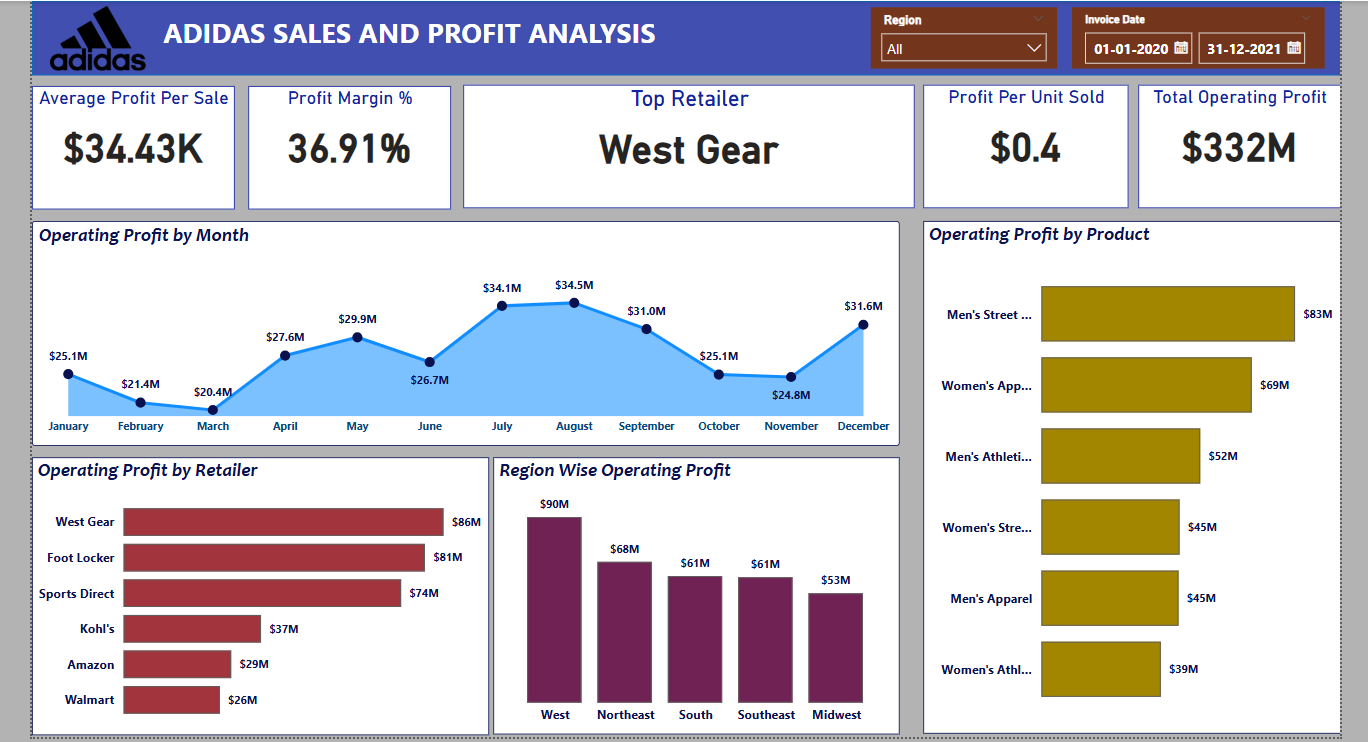

This screenshot's page, from the dashboard's own definition file:
{"tool":"powerbi","page":{"name":"Profit","canvas":[1280,720],"ordinal":1},"visuals":[{"type":"shape","box":[0,0,1280.3,72.7],"z":0,"group":"g1"},{"type":"barChart","title":"Operating Profit by Product","fields":{"Y":["Sum(Table1.Operating Profit)"],"Category":["Table1.Product"]},"box":[871.9,215.2,408.4,501.4],"z":0},{"type":"group","id":"g1","title":"Group 2","box":[0,0,1280.3,72.1],"z":4,"group":"g2"},{"type":"textbox","box":[123.5,6.9,533.8,60.4],"z":1000,"group":"g1"},{"type":"barChart","title":"Operating Profit by Retailer","fields":{"Y":["Sum(Table1.Operating Profit)"],"Category":["Table1.Retailer"]},"box":[0,446.3,447,272],"z":1000},{"type":"image","box":[0,0,129,72.7],"z":2000,"group":"g1"},{"type":"card","title":"Top Retailer","fields":{"Values":["Table1.Top 5 Retailers"]},"box":[421.9,81.9,441.4,121.1],"z":2000},{"type":"areaChart","title":"Operating Profit by Month","fields":{"Category":["Table1.Invoice Date.Variation.Date Hierarchy.Month"],"Y":["Sum(Table1.Operating Profit)"]},"box":[0,215.2,849,220],"z":3000},{"type":"card","title":"Total Operating Profit","fields":{"Values":["Sum(Table1.Operating Profit)"]},"box":[1082.2,81.9,198.1,121.1],"z":4000},{"type":"group","id":"g2","title":"Group 1","box":[0,0,1280.3,72.1],"z":5000},{"type":"card","title":"Profit Per Unit Sold","fields":{"Values":["Table1.Profit per Unit Sold"]},"box":[871.9,81.9,200.5,121.1],"z":6000},{"type":"card","title":"Average Profit Per Sale","fields":{"Values":["Table1.Average Profit per Sale"]},"box":[0,83.2,198,121],"z":7000},{"type":"columnChart","title":"Region Wise Operating Profit","fields":{"Category":["Table1.Region"],"Y":["Sum(Table1.Operating Profit)"]},"box":[451.2,446.3,397.4,271.5],"z":8000},{"type":"card","title":"Profit Margin %","fields":{"Values":["Table1.Profit Margin %"]},"box":[211.6,83.2,198.1,121.1],"z":9000},{"type":"slicer","fields":{"Values":["Table1.Region"]},"box":[820.5,6.1,182.2,59.9],"z":10000},{"type":"slicer","fields":{"Values":["Table1.Invoice Date"]},"box":[1017.4,6.1,247,59.9],"z":11000},{"type":"actionButton","box":[0,0,42.8,28.1],"z":12000}]}

Visuals, with their boxes on the page's 1280x720 design canvas (x1, y1, x2, y2). These are canvas units, not pixel positions in the 1368x742 screenshot, which may show the page scaled, cropped or inside an application window:
shape: 0 0 1280 73
"Operating Profit by Product" barChart: 872 215 1280 717
"Group 2" group: 0 0 1280 72
textbox: 124 7 657 67
"Operating Profit by Retailer" barChart: 0 446 447 718
image: 0 0 129 73
"Top Retailer" card: 422 82 863 203
"Operating Profit by Month" areaChart: 0 215 849 435
"Total Operating Profit" card: 1082 82 1280 203
"Group 1" group: 0 0 1280 72
"Profit Per Unit Sold" card: 872 82 1072 203
"Average Profit Per Sale" card: 0 83 198 204
"Region Wise Operating Profit" columnChart: 451 446 849 718
"Profit Margin %" card: 212 83 410 204
slicer - Table1.Region: 820 6 1003 66
slicer - Table1.Invoice Date: 1017 6 1264 66
actionButton: 0 0 43 28
